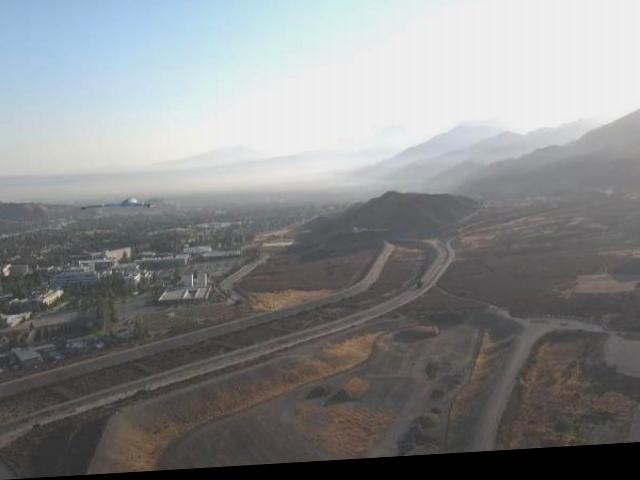iha: (77, 186, 158, 217)
